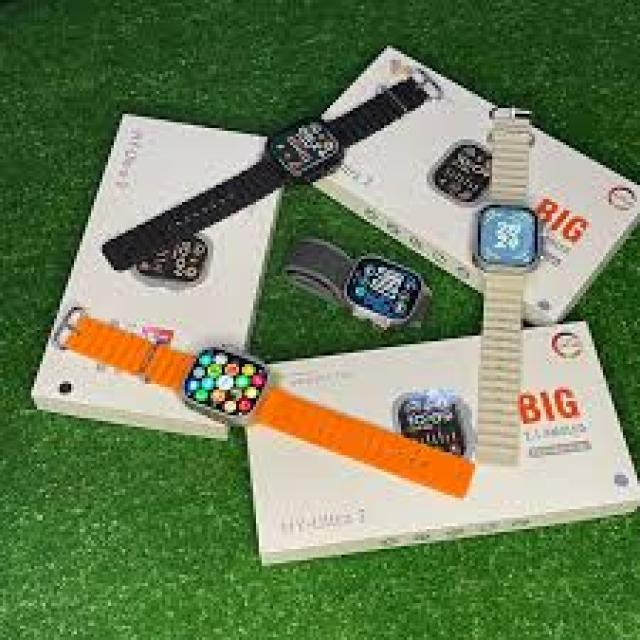objects: (454, 102, 575, 456), (256, 393, 472, 495), (282, 217, 429, 328), (63, 307, 194, 390), (180, 340, 268, 436), (255, 118, 355, 184)
